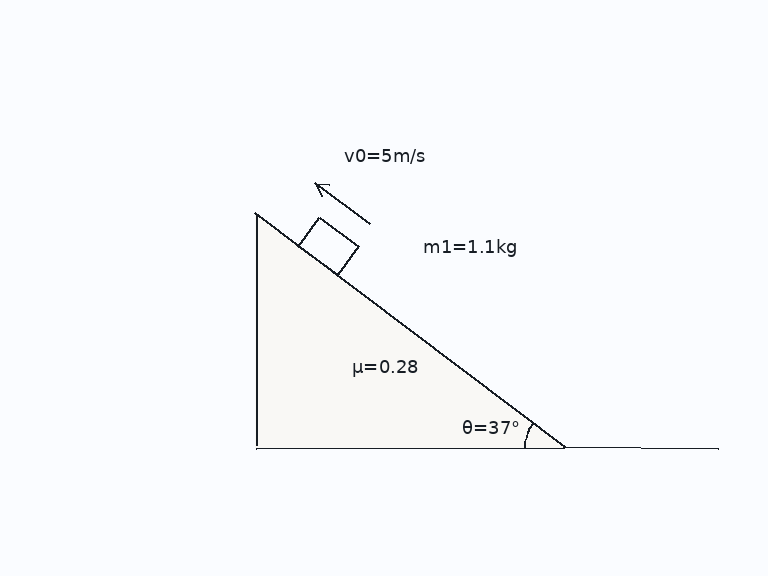block: (296, 215, 360, 277)
ramp: (254, 212, 567, 449)
